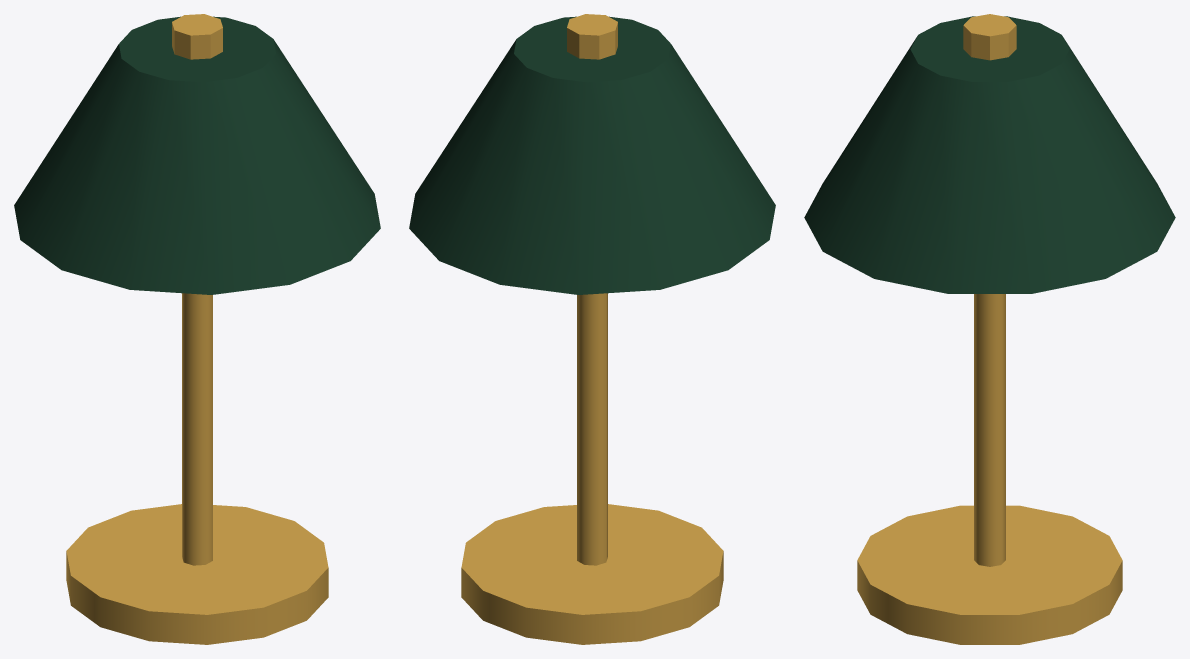
File: desk_lamp.glb
3 views of the same model, side by side, from view 1: azimuth 30°, elevation 25°; view 2: azimuth 150°, elevation 25°; view 3: azimuth 270°, elevation 25° (orthographic).
Visible parts, largest first — view 1: desk_lamp; view 2: desk_lamp; view 3: desk_lamp.
Boxes of the visible parts, x1,y1,x2,y2 form: desk_lamp: [14, 14, 380, 644]; desk_lamp: [409, 14, 775, 644]; desk_lamp: [804, 14, 1175, 644].
Size of the model in its own units: 0.273 by 0.47 by 0.28.
